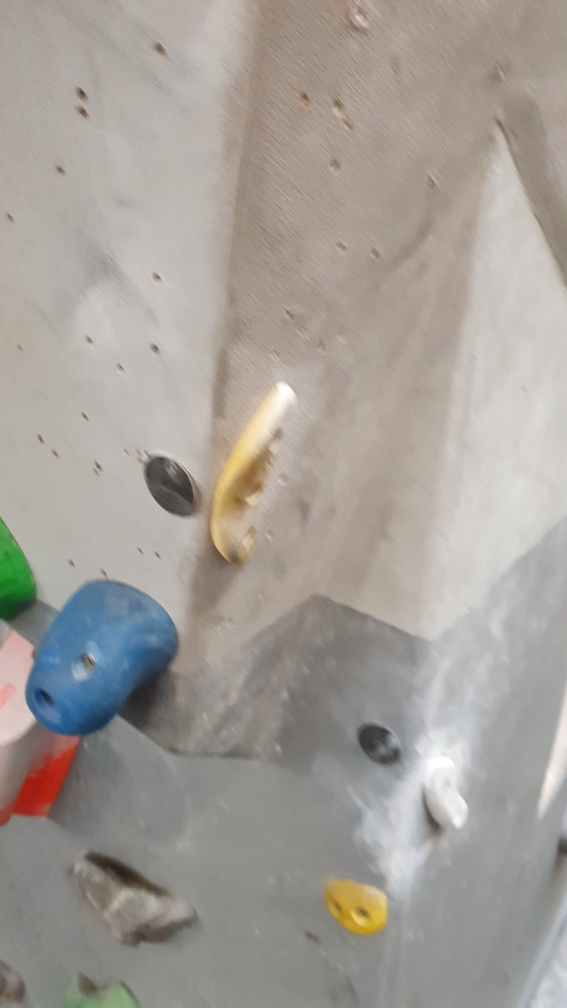Hand Start: (137, 446, 201, 522), (352, 719, 409, 766)
Jug: (64, 843, 200, 949)
